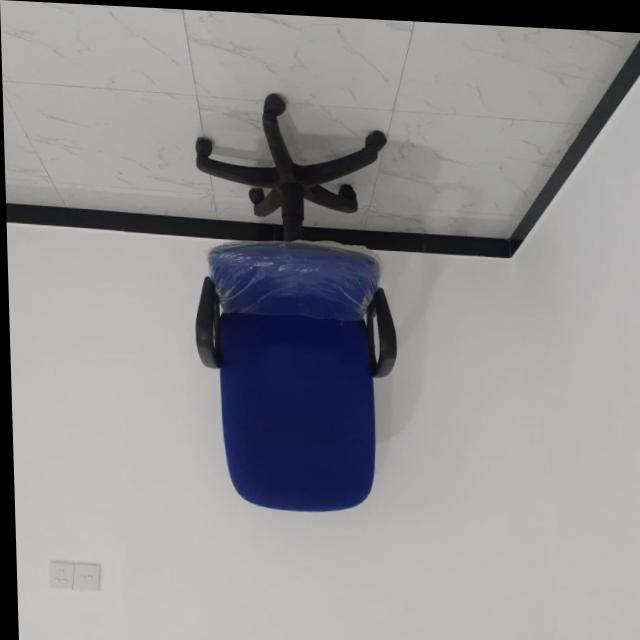Chair: (189, 83, 403, 514)
